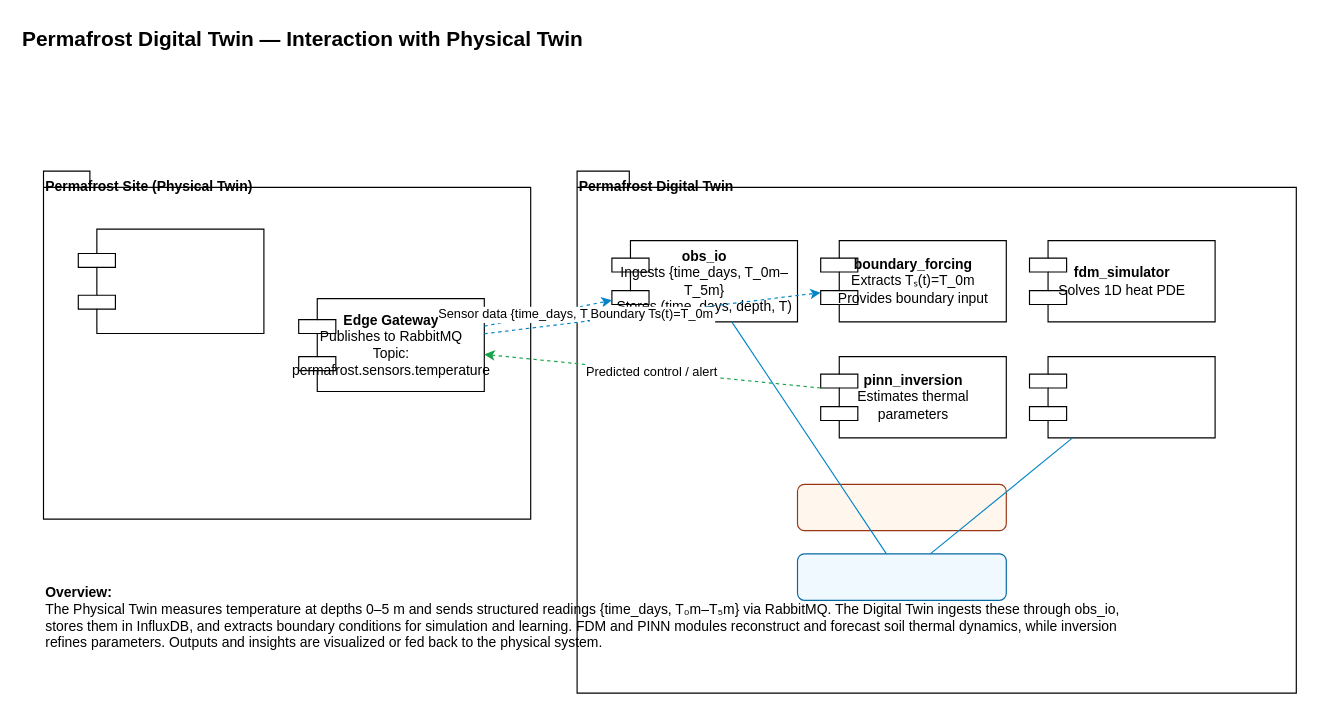
This 1317x713 diagram has some shape labels left out. The centre of each missing label's shape, as x and y in pixels:
Soil Sensors Measure T_0m–T_5m Publish {time_days, T_0m–T_5m}: point (170, 281)
viz_gateway Visualization dashboards: point (1121, 397)
«MessageExchange» RabbitMQ Topic: permafrost.sensors.temperature: point (901, 507)
«TimeSeriesDB» InfluxDB Schema: {time_days, depth, temperature}: point (901, 576)
